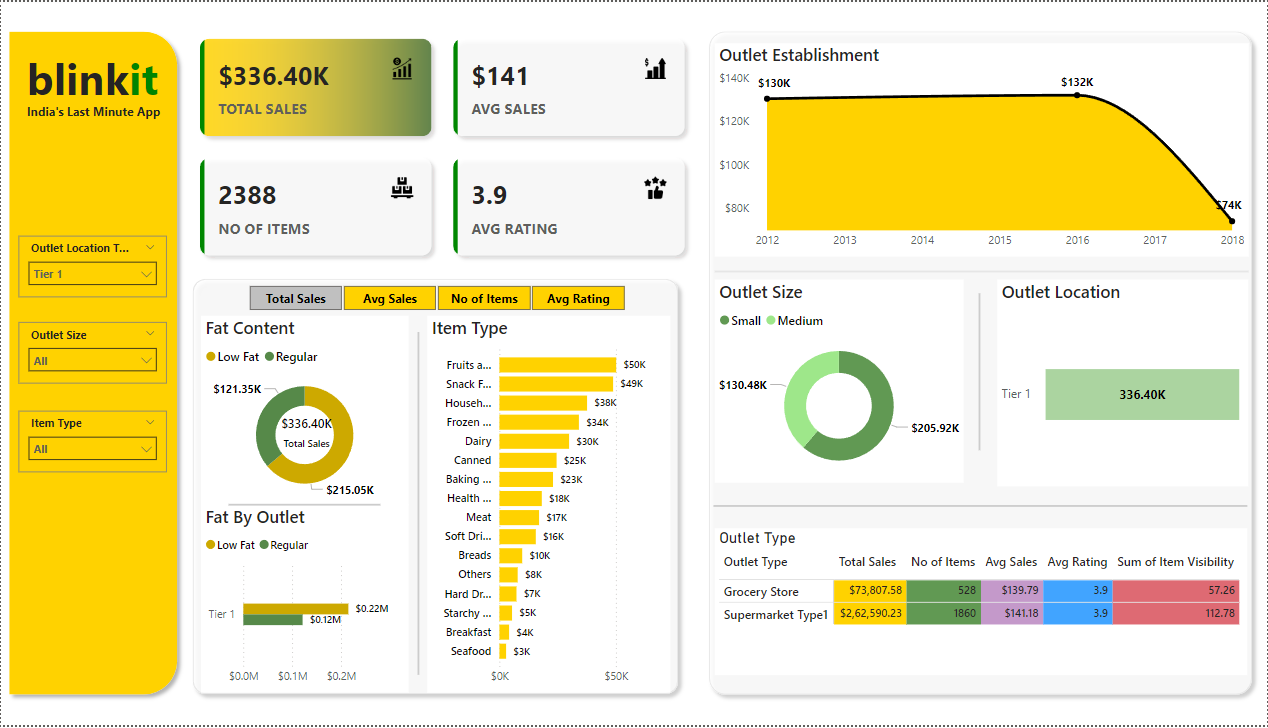

The dashboard page shown, as its layout file describes it:
{"tool":"powerbi","page":{"name":"Page 1","canvas":[1400,800],"ordinal":0},"visuals":[{"type":"shape","box":[0,23.1,203.8,751.4],"z":0},{"type":"textbox","box":[23.1,46.2,168.5,85.6],"z":1000},{"type":"textbox","box":[23.1,106,168.5,36.7],"z":2000},{"type":"cardVisual","fields":{"Data":["BlinkIT Grocery Data.Total Sales","BlinkIT Grocery Data.Avg Sales","BlinkIT Grocery Data.No of Items","BlinkIT Grocery Data.Avg Rating"]},"box":[203.8,23.1,570.7,274.5],"z":3000},{"type":"shape","box":[203.8,297.6,554.4,476.9],"z":4000},{"type":"donutChart","title":"Fat Content","fields":{"Y":["BlinkIT Grocery Data.Total Sales"],"Category":["BlinkIT Grocery Data.Item Fat Content"]},"box":[221.5,346.5,229.6,209.2],"z":5000},{"type":"slicer","fields":{"Values":["METRICS.METRICS"]},"box":[248.6,307.1,464.7,39.4],"z":6000},{"type":"card","fields":{"Values":["BlinkIT Grocery Data.Total Sales"]},"box":[262.2,422.6,150.8,104.6],"z":7000},{"type":"clusteredBarChart","title":"Fat By Outlet","fields":{"Y":["BlinkIT Grocery Data.Total Sales"],"Series":["BlinkIT Grocery Data.Item Fat Content"],"Category":["BlinkIT Grocery Data.Outlet Location Type"]},"box":[221.5,555.7,229.6,207.9],"z":8000},{"type":"shape","box":[788.9,273.6,590.3,48.6],"z":9000},{"type":"shape","box":[377.7,365.5,168.5,379.1],"z":10000},{"type":"barChart","title":"Item Type","fields":{"Y":["BlinkIT Grocery Data.Total Sales"],"Category":["BlinkIT Grocery Data.Item Type"]},"box":[471.5,346.5,269,417.1],"z":11000},{"type":"shape","box":[774.5,23.1,618.2,751.4],"z":12000},{"type":"lineChart","title":"Outlet Establishment","fields":{"Category":["BlinkIT Grocery Data.Outlet Establishment Year"],"Y":["BlinkIT Grocery Data.Total Sales"]},"box":[788.9,45.8,590.3,236.1],"z":13000},{"type":"donutChart","title":"Outlet Size","fields":{"Y":["BlinkIT Grocery Data.Total Sales"],"Category":["BlinkIT Grocery Data.Outlet Size"]},"box":[788.9,306.9,275,225],"z":14000},{"type":"funnel","title":"Outlet Location","fields":{"Y":["Sum(BlinkIT Grocery Data.Sales)"],"Category":["BlinkIT Grocery Data.Outlet Location Type"]},"box":[1101.4,306.9,277.8,229.2],"z":15000},{"type":"shape","box":[251.4,366.7,168.1,379.2],"z":16000},{"type":"shape","box":[998.6,322.2,168.1,173.6],"z":17000},{"type":"shape","box":[787.5,368.1,590.3,379.2],"z":18000},{"type":"pivotTable","title":"Outlet Type","fields":{"Values":["BlinkIT Grocery Data.Total Sales","BlinkIT Grocery Data.No of Items","BlinkIT Grocery Data.Avg Sales","BlinkIT Grocery Data.Avg Rating","Sum(BlinkIT Grocery Data.Item Visibility)"],"Rows":["BlinkIT Grocery Data.Outlet Type"]},"box":[788.9,581.9,588.9,162.5],"z":19000},{"type":"slicer","fields":{"Values":["BlinkIT Grocery Data.Outlet Location Type"]},"box":[19.4,258.3,163.9,68.1],"z":20000},{"type":"slicer","fields":{"Values":["BlinkIT Grocery Data.Outlet Size"]},"box":[19.4,354.2,163.9,68.1],"z":21000},{"type":"slicer","fields":{"Values":["BlinkIT Grocery Data.Item Type"]},"box":[19.4,451.4,163.9,68.1],"z":22000}]}

Visuals, with their boxes in screenshot pixels (x1, y1, x2, y2), scaled from the page's 1400x800 canvas onto the 1268x728 screenshot:
shape: [x1=0, y1=21, x2=185, y2=705]
textbox: [x1=21, y1=42, x2=174, y2=120]
textbox: [x1=21, y1=96, x2=174, y2=130]
cardVisual - BlinkIT Grocery Data.Total Sales x BlinkIT Grocery Data.Avg Sales: [x1=185, y1=21, x2=701, y2=271]
shape: [x1=185, y1=271, x2=687, y2=705]
"Fat Content" donutChart: [x1=201, y1=315, x2=409, y2=506]
slicer - METRICS.METRICS: [x1=225, y1=279, x2=646, y2=315]
card - BlinkIT Grocery Data.Total Sales: [x1=237, y1=385, x2=374, y2=480]
"Fat By Outlet" clusteredBarChart: [x1=201, y1=506, x2=409, y2=695]
shape: [x1=715, y1=249, x2=1249, y2=293]
shape: [x1=342, y1=333, x2=495, y2=678]
"Item Type" barChart: [x1=427, y1=315, x2=671, y2=695]
shape: [x1=701, y1=21, x2=1261, y2=705]
"Outlet Establishment" lineChart: [x1=715, y1=42, x2=1249, y2=257]
"Outlet Size" donutChart: [x1=715, y1=279, x2=964, y2=484]
"Outlet Location" funnel: [x1=998, y1=279, x2=1249, y2=488]
shape: [x1=228, y1=334, x2=380, y2=679]
shape: [x1=904, y1=293, x2=1057, y2=451]
shape: [x1=713, y1=335, x2=1248, y2=680]
"Outlet Type" pivotTable: [x1=715, y1=530, x2=1248, y2=677]
slicer - BlinkIT Grocery Data.Outlet Location Type: [x1=18, y1=235, x2=166, y2=297]
slicer - BlinkIT Grocery Data.Outlet Size: [x1=18, y1=322, x2=166, y2=384]
slicer - BlinkIT Grocery Data.Item Type: [x1=18, y1=411, x2=166, y2=473]
